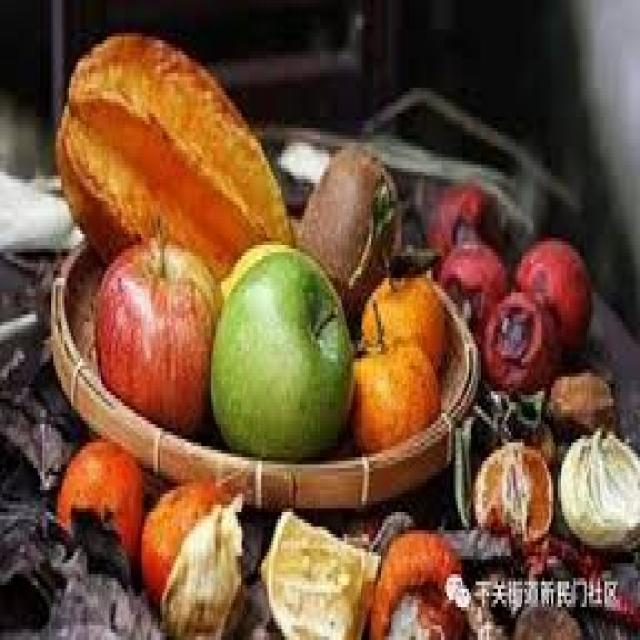organic waste: (51, 33, 293, 252), (207, 245, 351, 454), (93, 238, 218, 424), (293, 136, 398, 337), (258, 508, 373, 636), (46, 439, 146, 581), (556, 428, 638, 556), (160, 505, 240, 636), (136, 479, 218, 604), (376, 527, 462, 636), (427, 179, 509, 285), (513, 238, 589, 347), (471, 446, 549, 549), (351, 340, 436, 432), (358, 270, 444, 358), (478, 296, 556, 388), (544, 369, 616, 446), (440, 245, 507, 322), (516, 530, 638, 570), (498, 384, 553, 450), (433, 527, 509, 563), (373, 508, 411, 548)
